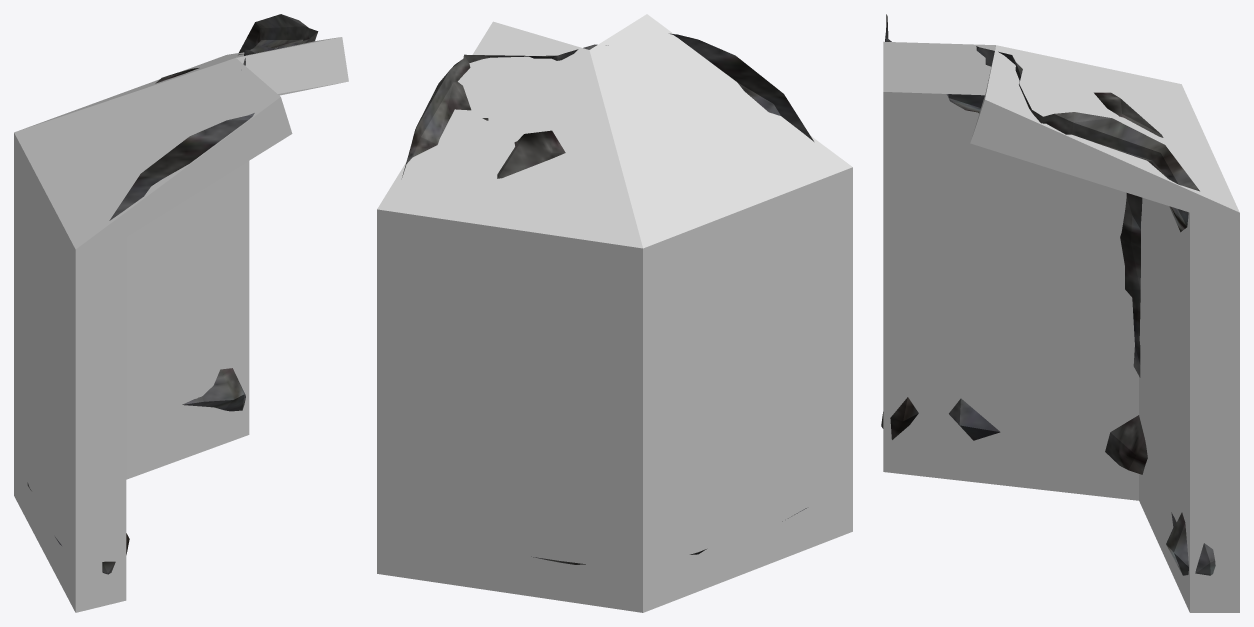
Rendered from Cave Wall 3.fbx.
3 views of the same model, side by side, from view 1: azimuth 30°, elevation 25°; view 2: azimuth 150°, elevation 25°; view 3: azimuth 270°, elevation 25° (orthographic). The views are drawn at different scales.
Parts seen in each view (by area): view 1: Cube.006, Cave Wall 3; view 2: Cube.006, Cave Wall 3; view 3: Cube.006, Cave Wall 3.
Part boxes in pixels (box(x1,y1,x2,y2)): Cube.006: box(14, 37, 348, 612); Cave Wall 3: box(27, 14, 318, 574); Cube.006: box(377, 14, 852, 612); Cave Wall 3: box(402, 33, 813, 564); Cube.006: box(883, 41, 1239, 612); Cave Wall 3: box(881, 14, 1215, 575).
Bounding box in the file's own units: 912 × 1280 × 810.
1 material, 1 textured.
